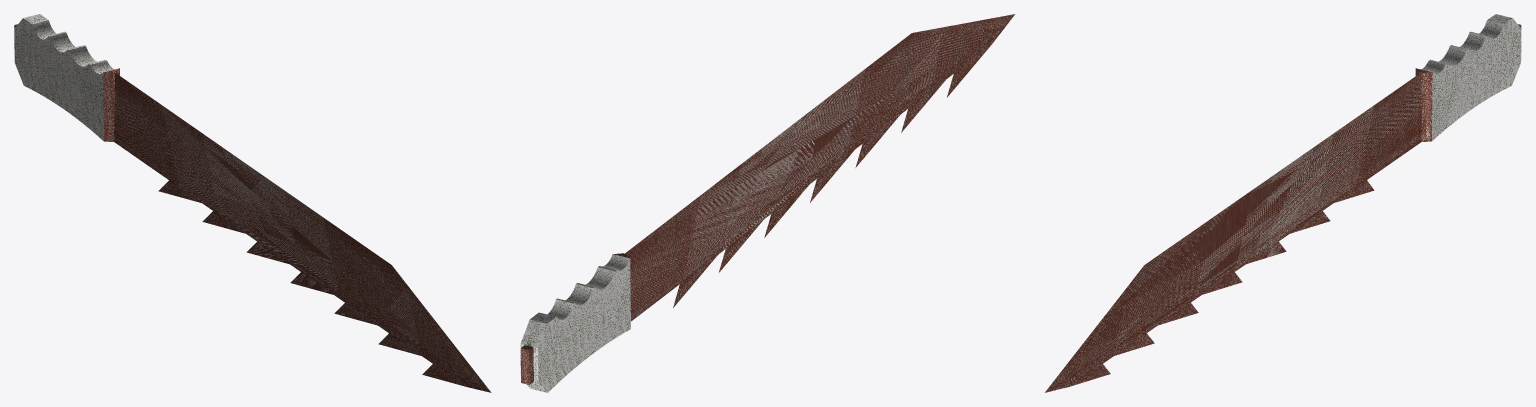
The model's file is model_align.obj.
The picture shows the model from 3 angles, left to right: view 1: azimuth 30°, elevation 25°; view 2: azimuth 150°, elevation 25°; view 3: azimuth 330°, elevation 25°; orthographic projection. The views are drawn at different scales.
Parts seen in each view (by area): view 1: mesh1_mesh1-geometry; view 2: mesh1_mesh1-geometry; view 3: mesh1_mesh1-geometry.
Part boxes in pixels (x1,y1,x2,y2): mesh1_mesh1-geometry: (14, 14, 491, 392); mesh1_mesh1-geometry: (520, 14, 1014, 392); mesh1_mesh1-geometry: (1045, 14, 1521, 392).
Bounding box in the file's own units: 0.00491 × 0.0266 × 0.239.
